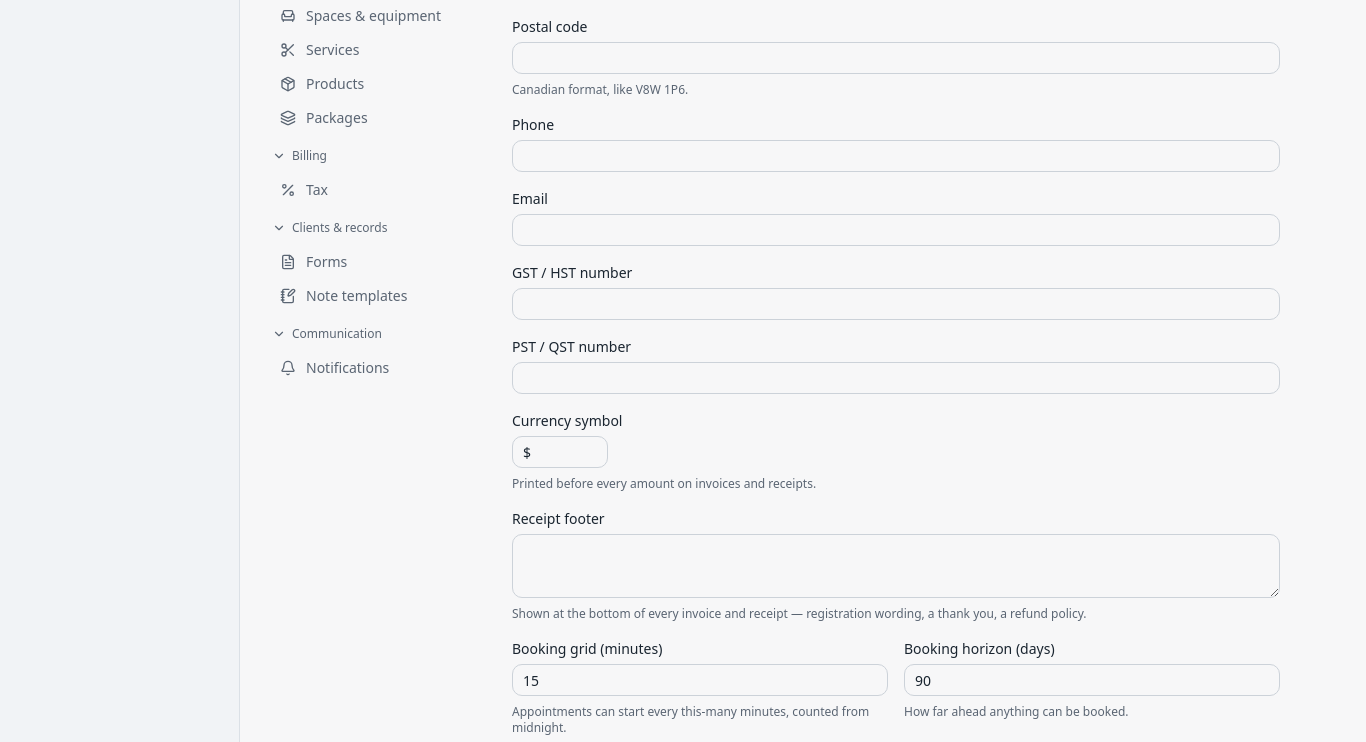
Test: a successful test email flips the readiness badge
The width and height of the screenshot is (1366, 742).
(page scrolled)
Click the button "Notifications" at (380, 368), box [272, 352, 488, 384]
(page scrolled)
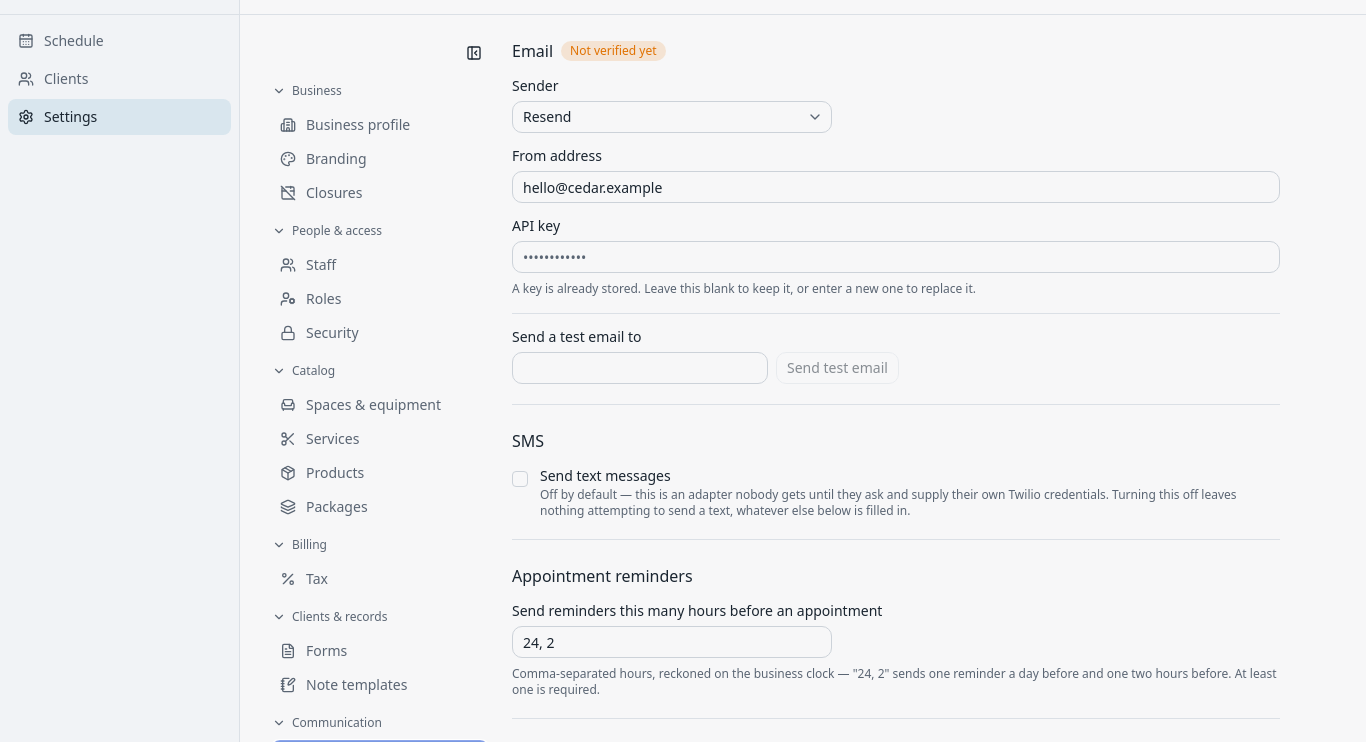
Now the text "Not verified yet" is shown, box [561, 41, 666, 61]
Type "owner@cedar.example" into the field labelled "Send a test email to" at (640, 368), box [512, 352, 768, 384]
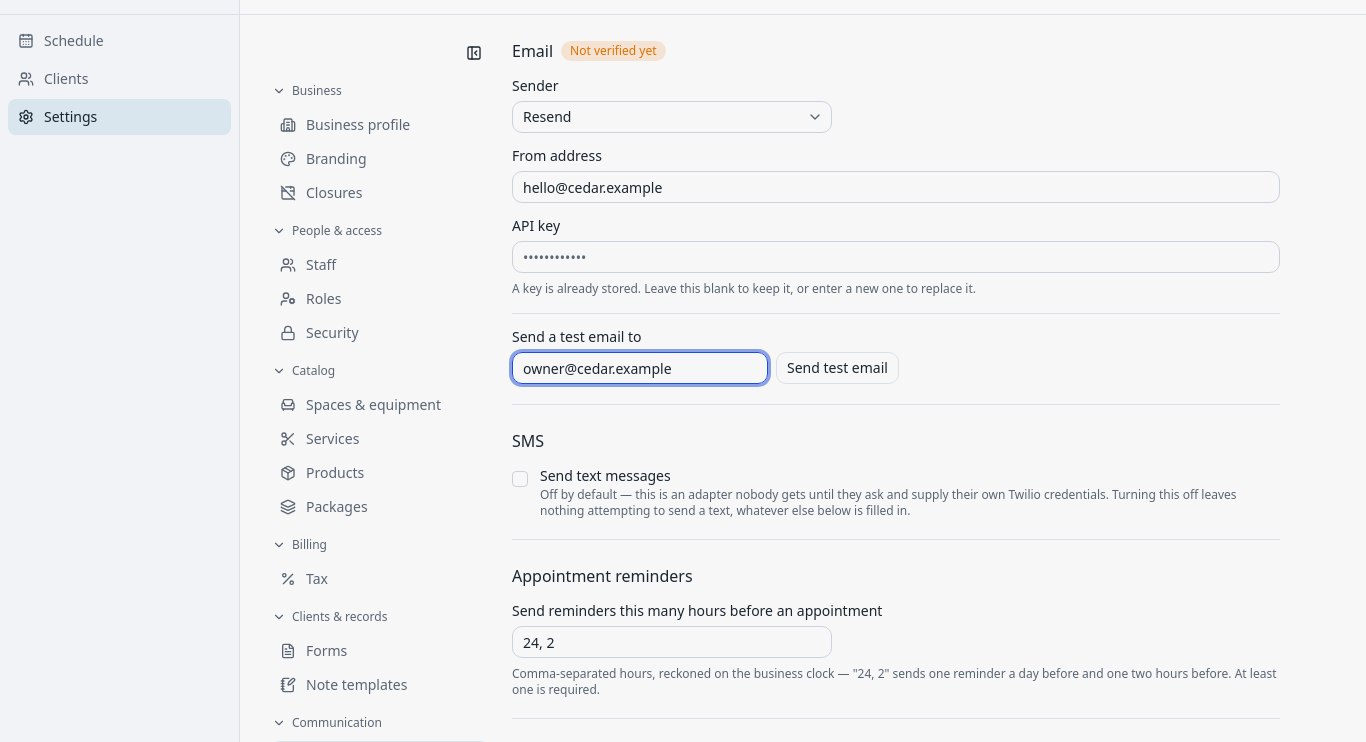
Click the button "Send test email" at (837, 368), box [776, 352, 899, 384]
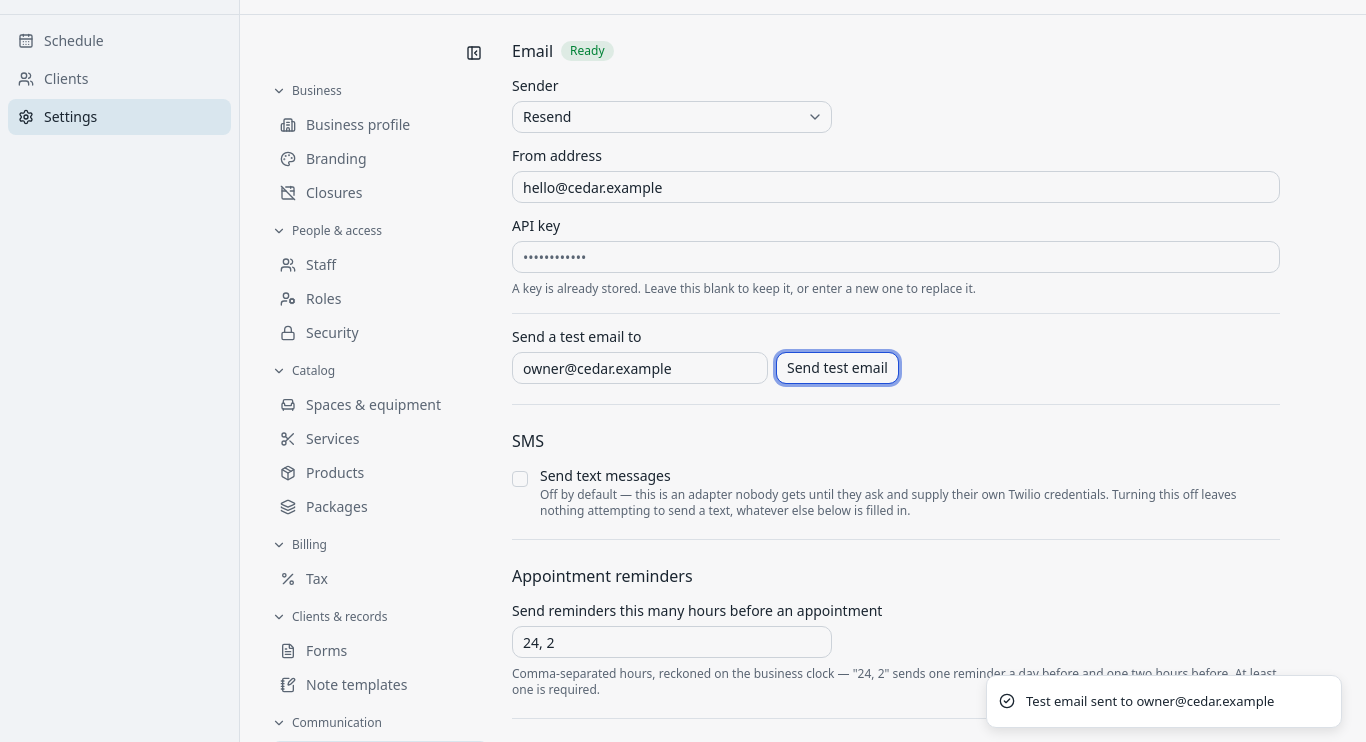
Now the icon "Ready" is shown, box [561, 41, 614, 61]
Now the text "Test email sent to owner@cedar.example" is shown, box [1026, 692, 1274, 711]
